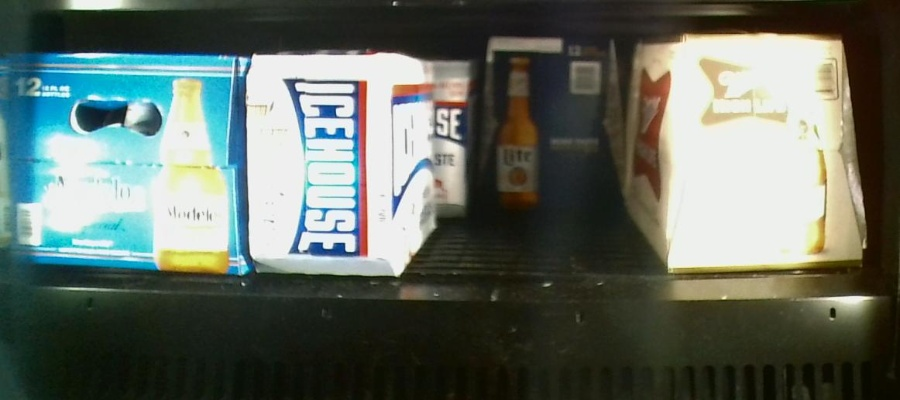bottle: (1, 53, 246, 279), (635, 34, 863, 270), (253, 53, 432, 268), (487, 37, 621, 213)
